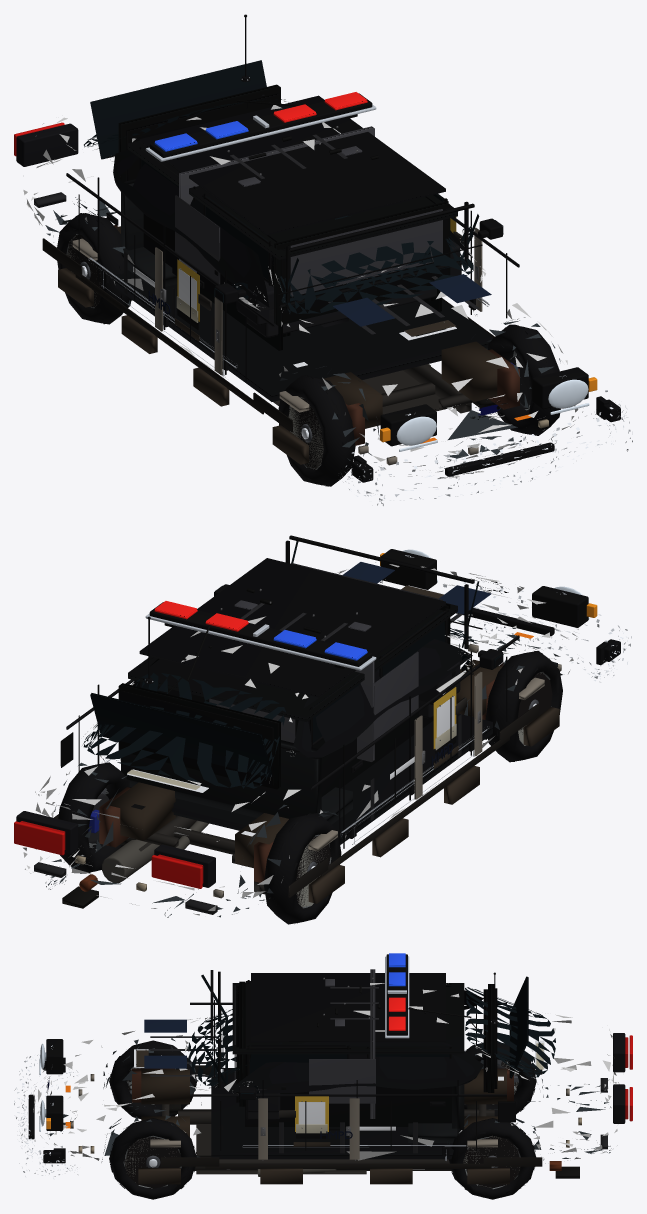
File: hmpd_cruiser_v12b_soft.obj
The picture shows the model from 3 angles, top to bottom: view 1: azimuth 30°, elevation 25°; view 2: azimuth 150°, elevation 25°; view 3: azimuth 270°, elevation 25°; orthographic projection. The views are drawn at different scales.
Parts seen in each view (by area): view 1: SoftLOD; view 2: SoftLOD; view 3: SoftLOD.
Part boxes in pixels (x1,y1,x2,y2): SoftLOD: [14, 14, 632, 505]; SoftLOD: [14, 535, 631, 924]; SoftLOD: [14, 953, 632, 1199].
Size of the model in its own units: 2.06 by 1.86 by 5.08.
